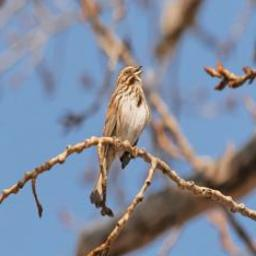Sparrow: (89, 61, 151, 209)
